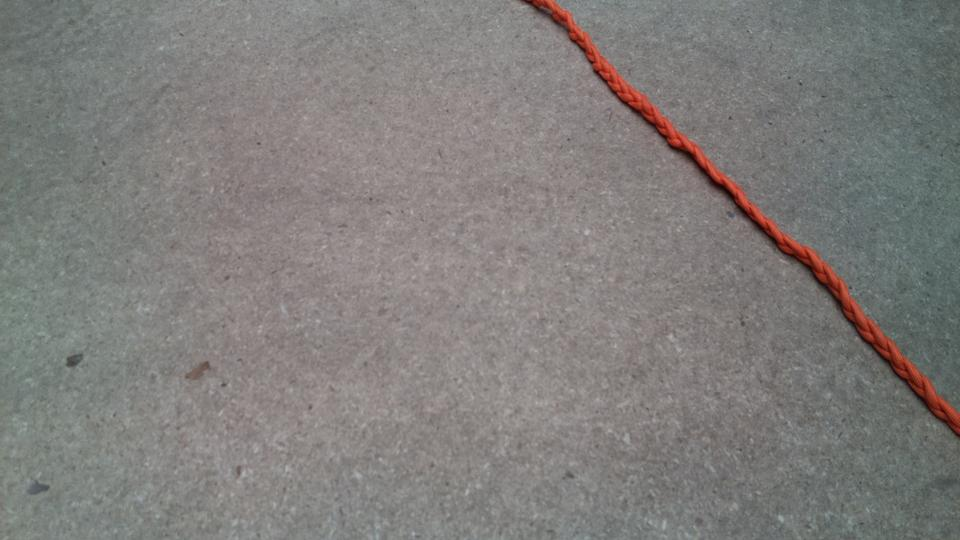rope: (552, 1, 960, 417)
